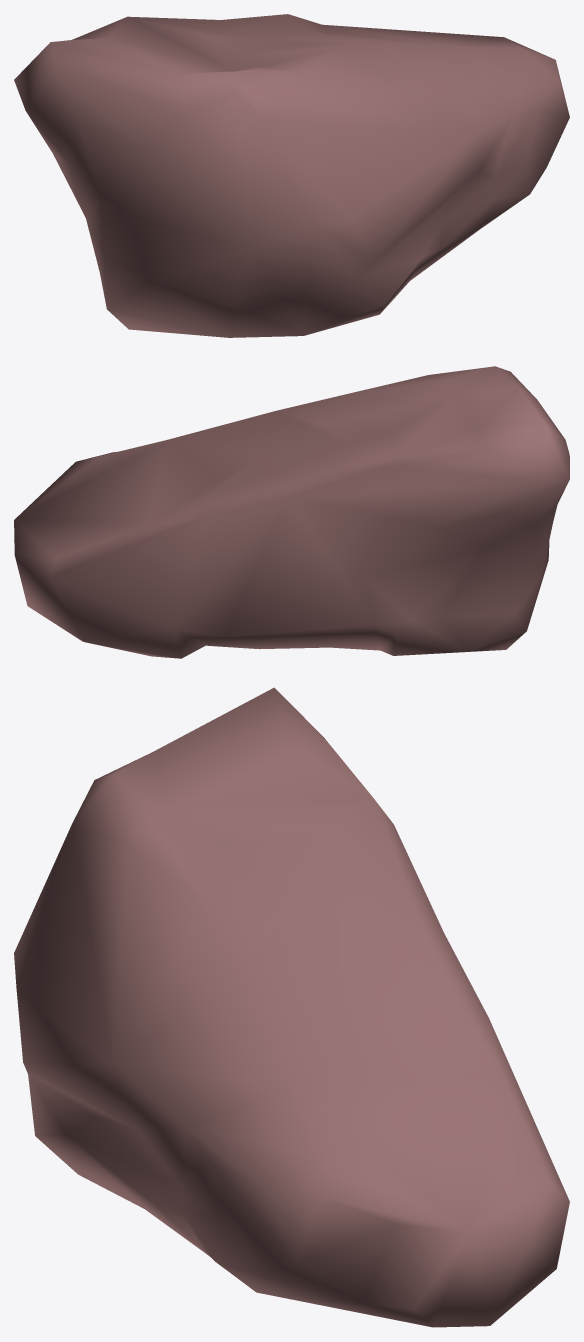
The model's file is small_rock_05.fbx.
3 renders of one model, top to bottom at view 1: azimuth 30°, elevation 25°; view 2: azimuth 150°, elevation 25°; view 3: azimuth 270°, elevation 25°, orthographic. The views are drawn at different scales.
Parts seen in each view (by area): view 1: small_rock_05; view 2: small_rock_05; view 3: small_rock_05.
Part boxes in pixels (x1,y1,x2,y2): small_rock_05: (14, 14, 569, 337); small_rock_05: (14, 366, 569, 658); small_rock_05: (14, 687, 569, 1327).
Bounding box in the file's own units: 149 × 73.82 × 102.
